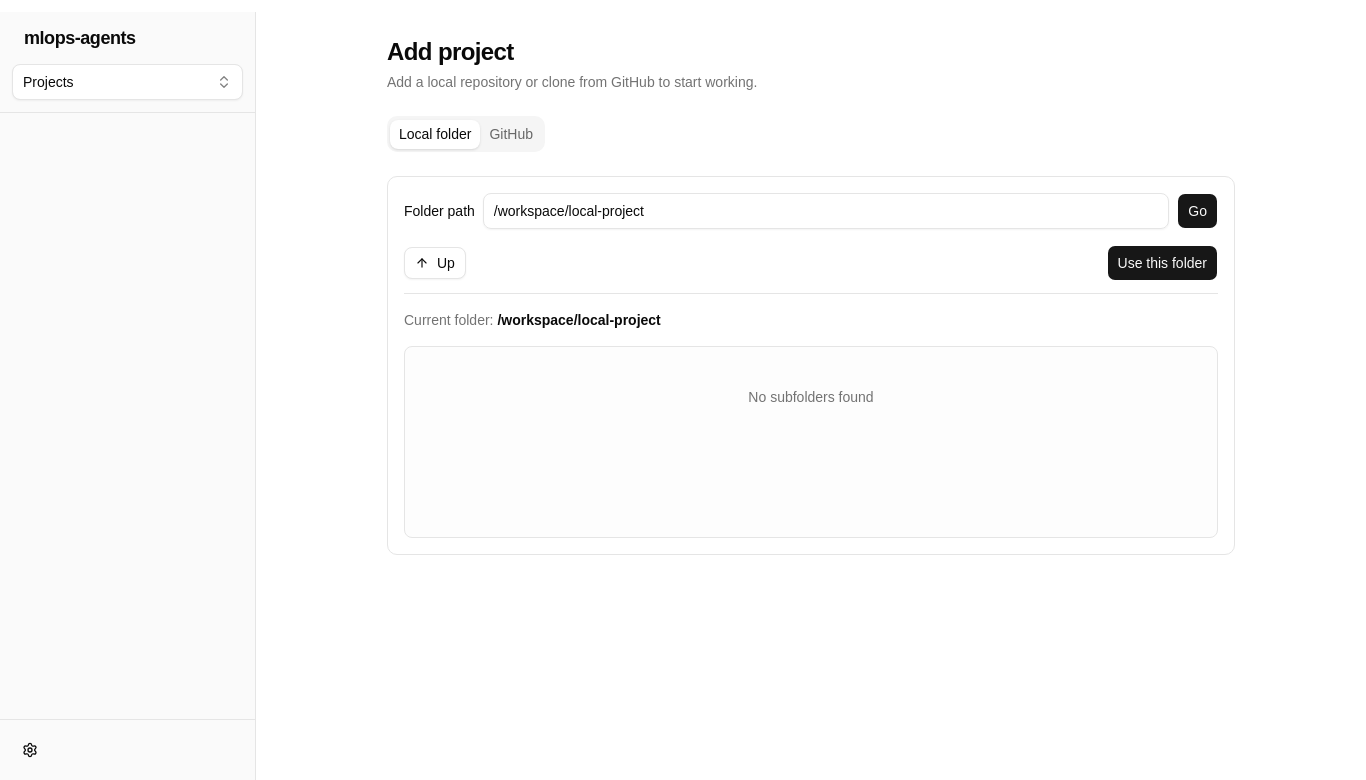
AddProjectPage › adding a local folder shows progress text, disables submit, and prevents double submission
Click the button "Use this folder" at [1162, 263], box [1106,245,1218,281]
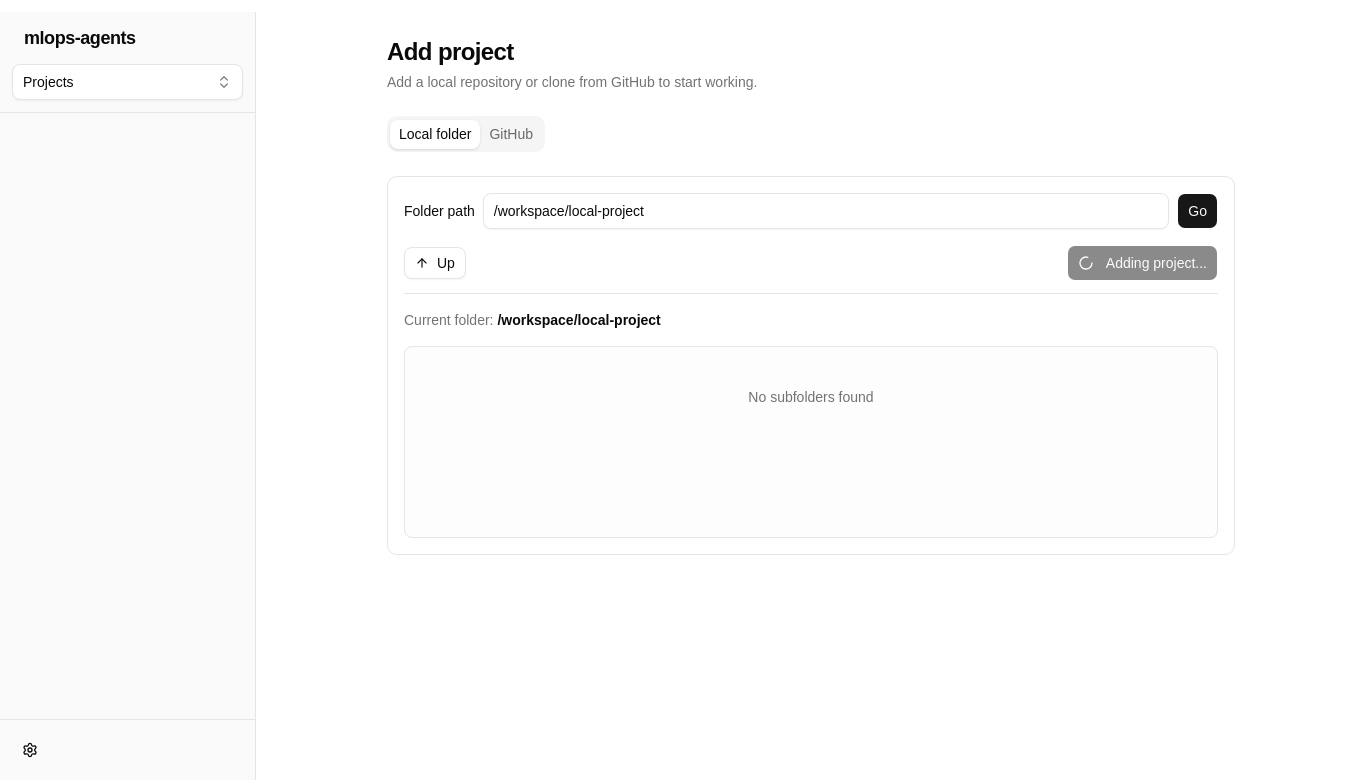
Expected: the button "Adding project..." is disabled
Click the button "Adding project..." at [1142, 263], box [1067,245,1218,281]
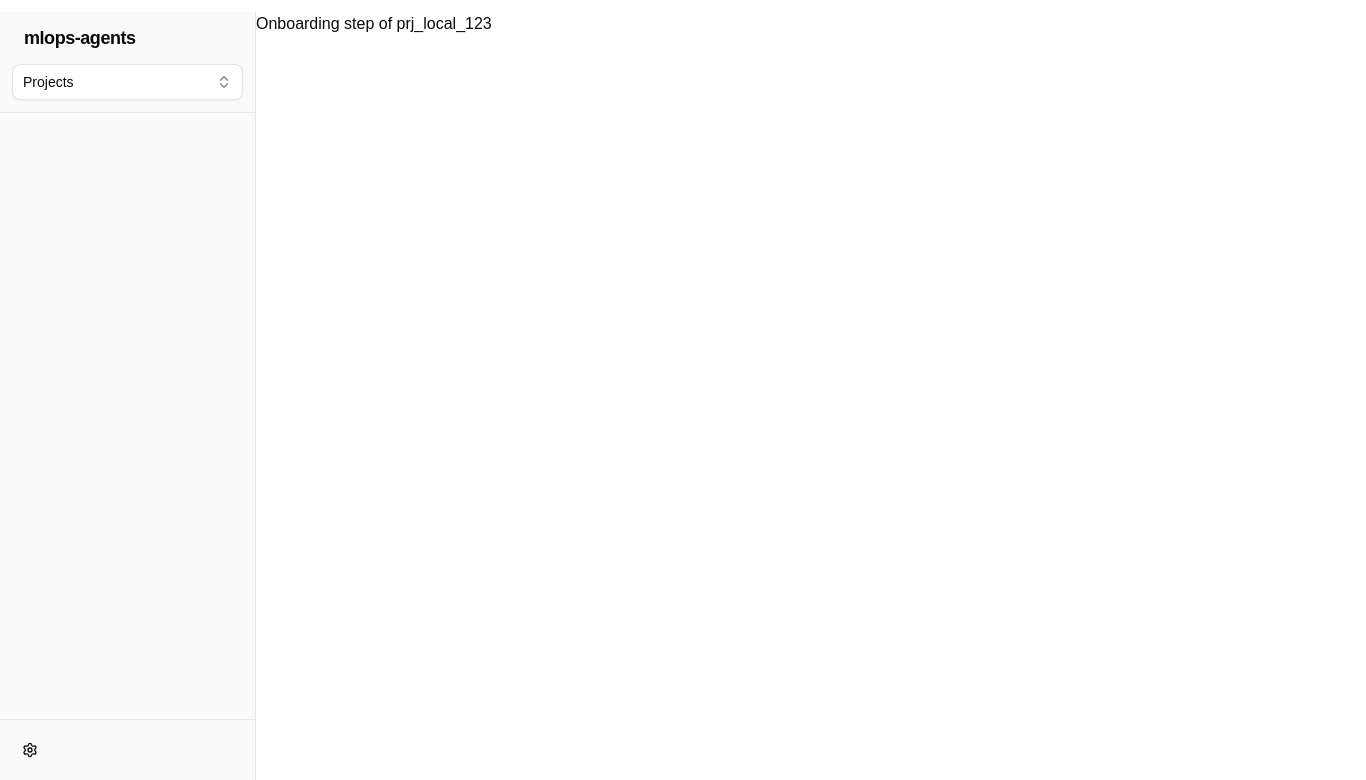
Expected: the text "Onboarding step of prj_local_123" is shown, [256,15,492,32]
